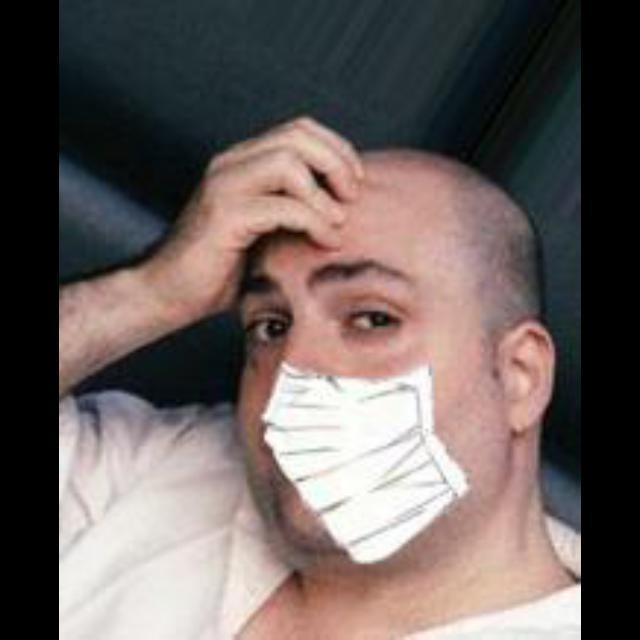suspicion: (205, 111, 527, 566)
